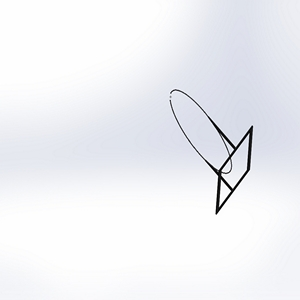circle: (167, 85, 256, 215)
